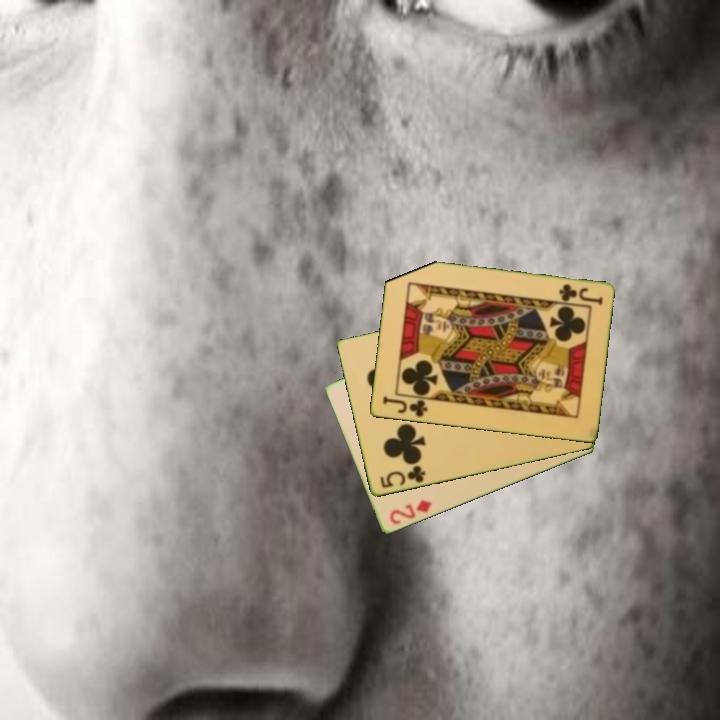2d: (386, 497, 434, 528)
5c: (376, 462, 428, 491)
Jc: (379, 393, 430, 420), (555, 281, 605, 308)
